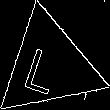L_N: (27, 37, 71, 95)
